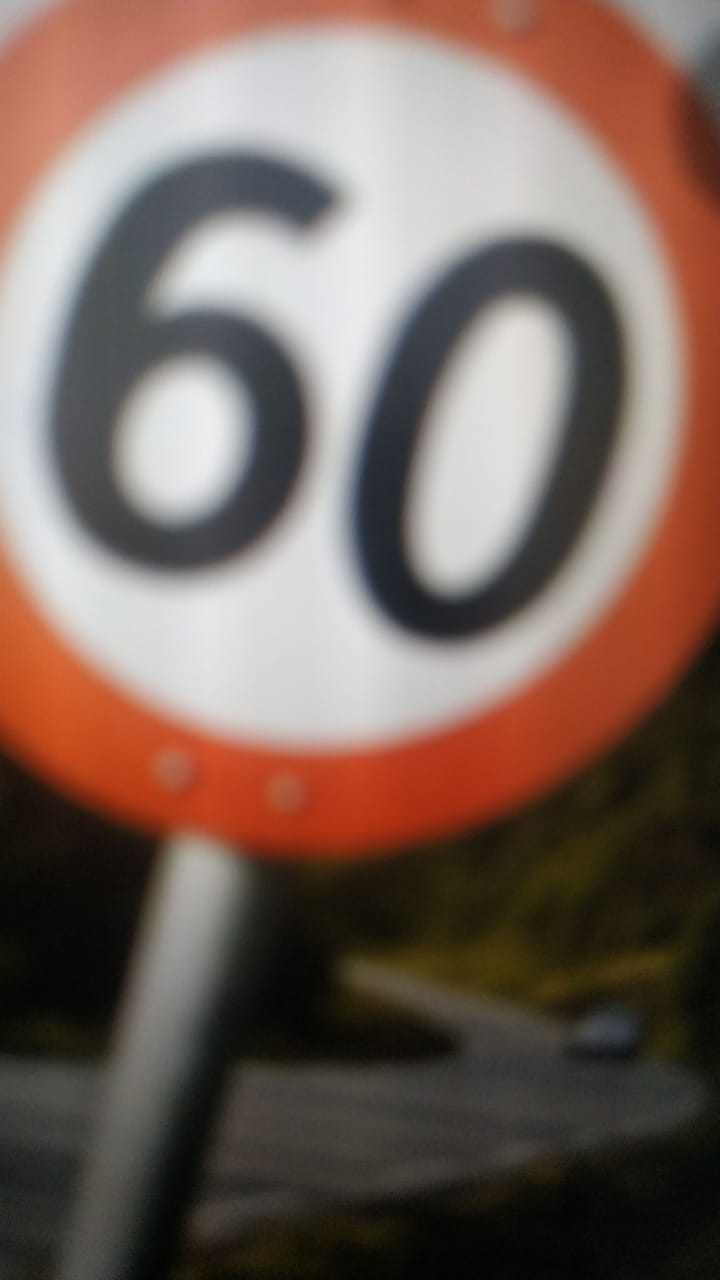SPEED LIMIT (60 KM/H): (5, 8, 720, 870)
